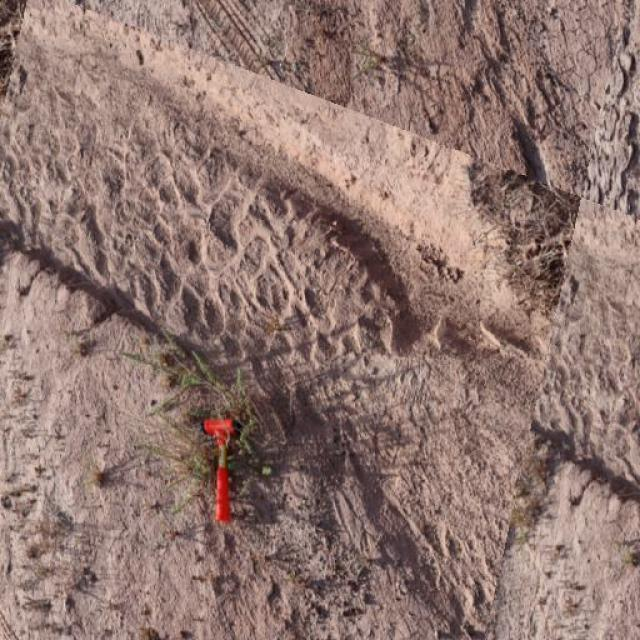mallet: (201, 415, 240, 523)
